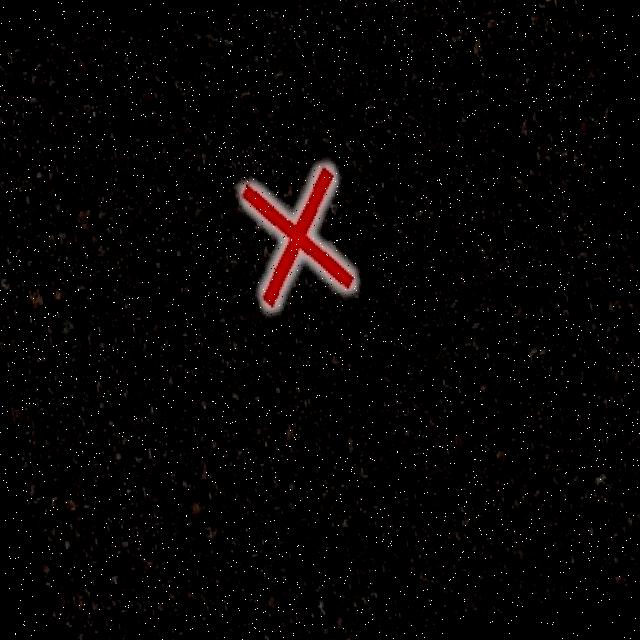x_marker: (240, 165, 354, 307)
